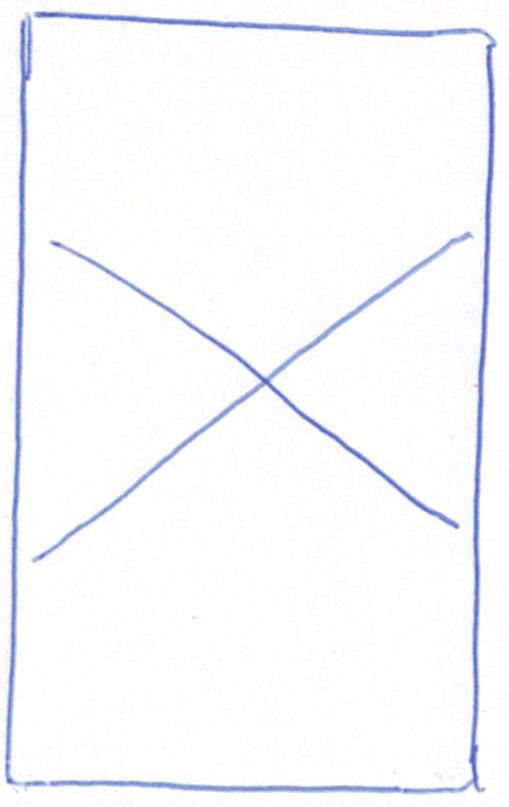Image: (12, 231, 491, 568)
Screen: (4, 10, 495, 792)
